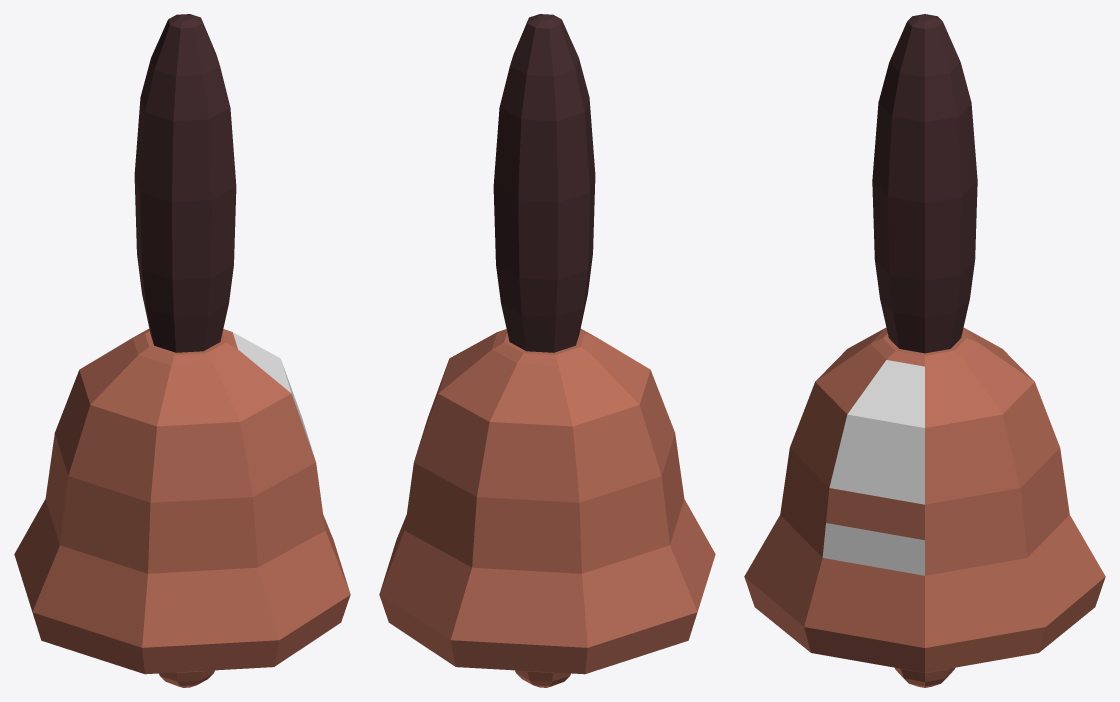
The model's file is Bell.fbx.
3 views of the same model, side by side, from view 1: azimuth 30°, elevation 25°; view 2: azimuth 150°, elevation 25°; view 3: azimuth 270°, elevation 25° (orthographic).
Parts seen in each view (by area): view 1: Bell; view 2: Bell; view 3: Bell.
Part boxes in pixels (x1=…): Bell: x1=14, y1=14, x2=350, y2=687; Bell: x1=379, y1=14, x2=715, y2=687; Bell: x1=744, y1=14, x2=1105, y2=687.
Size of the model in its own units: 257 by 544 by 267.
